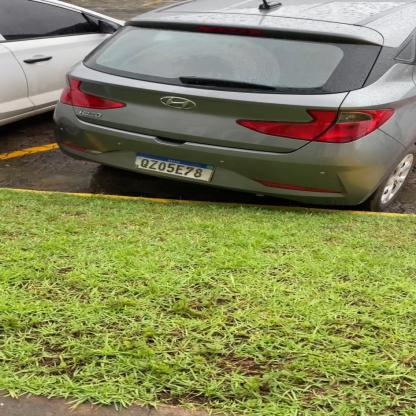Plate: (128, 150, 220, 184)
